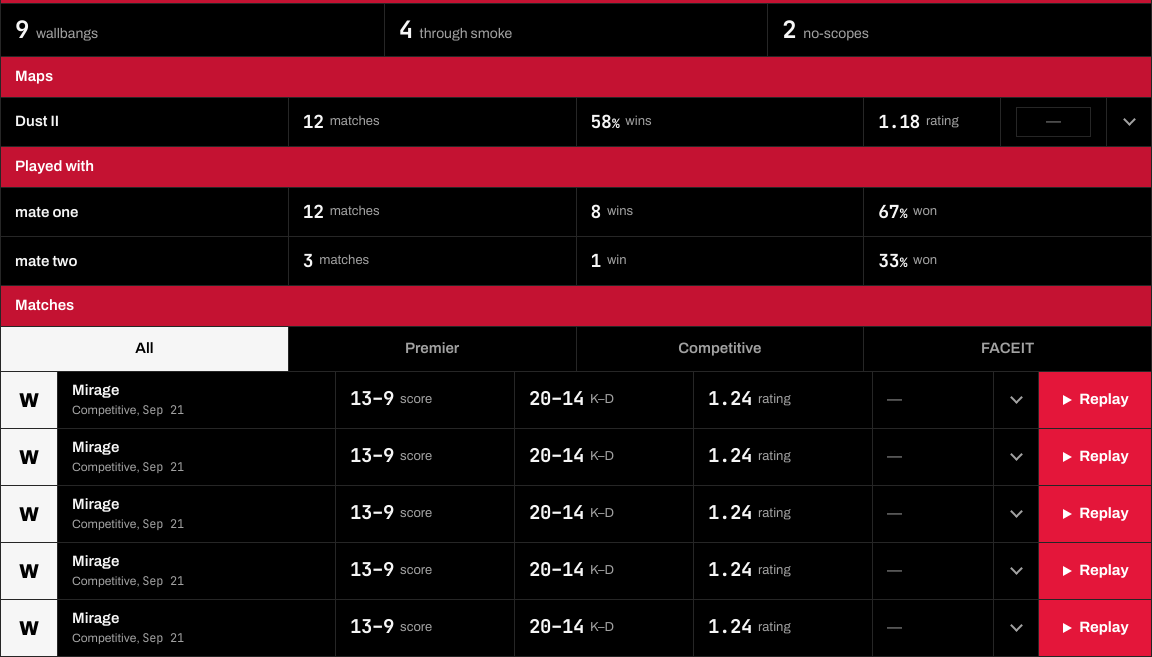
Test: ProfileView › a tab whose matches may be past those loaded offers them, not that there are none
The width and height of the screenshot is (1152, 657).
(page scrolled)
Click the tab "Premier".
click(432, 348)  # box x1=289 y1=326 x2=576 y2=370
(page scrolled)
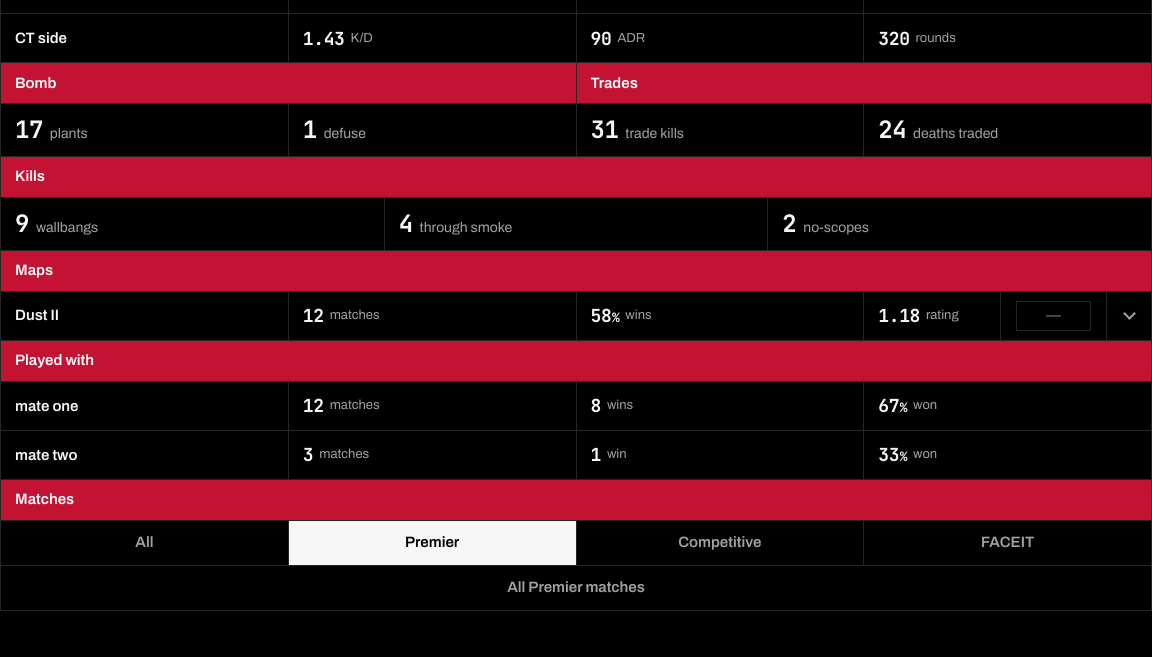
Expected: the button "All Premier matches" is shown, x1=1 y1=566 x2=1151 y2=610
